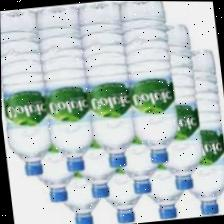plastic: (20, 26, 83, 205), (62, 22, 124, 200), (128, 56, 194, 222), (36, 3, 99, 175), (121, 1, 186, 165), (106, 22, 167, 194), (147, 21, 209, 190), (79, 0, 140, 169), (0, 7, 56, 180), (89, 60, 147, 224), (48, 64, 107, 224), (175, 45, 224, 215)
